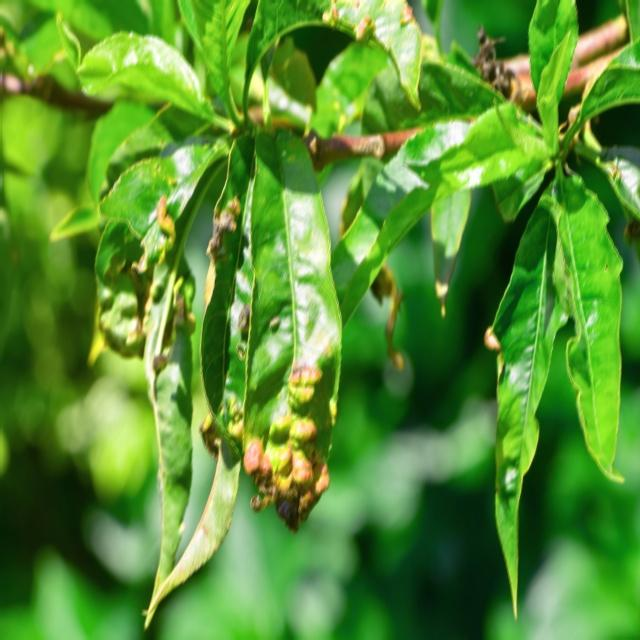leaf_curl: (142, 130, 364, 574)
